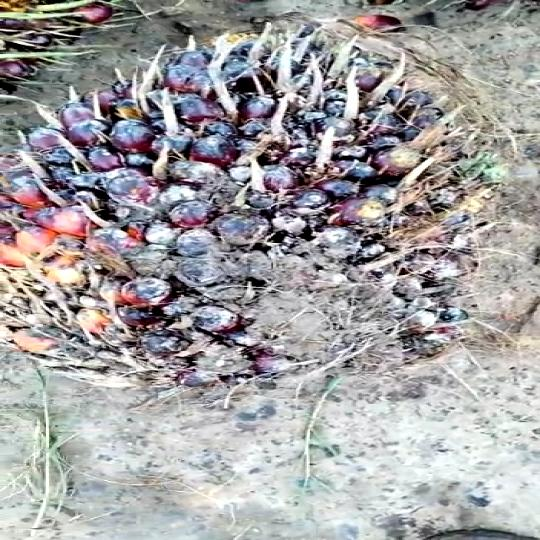mentah: (0, 19, 516, 394)
